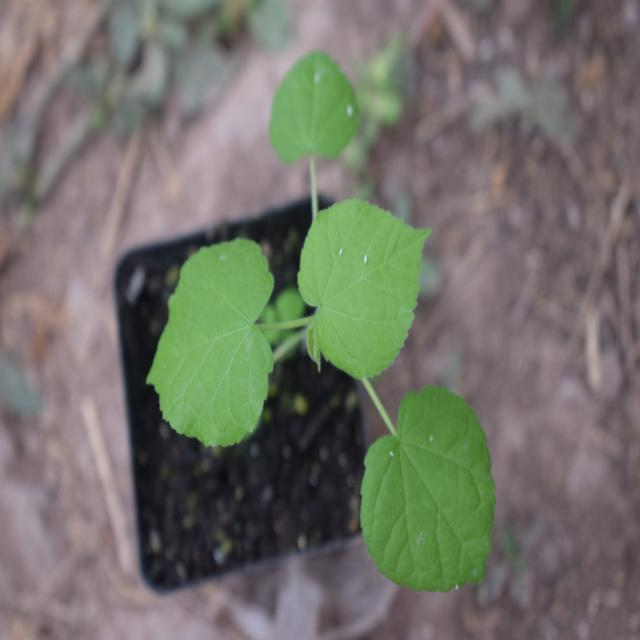abutilon theophrasti: (139, 77, 483, 583)
